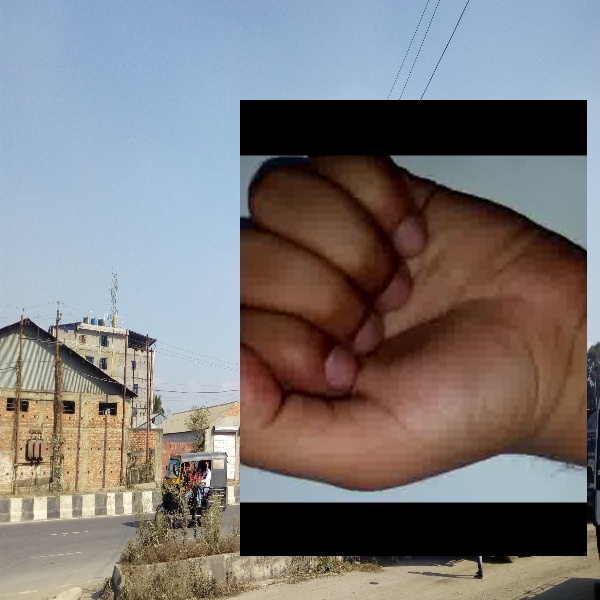A: (240, 100, 587, 556)
